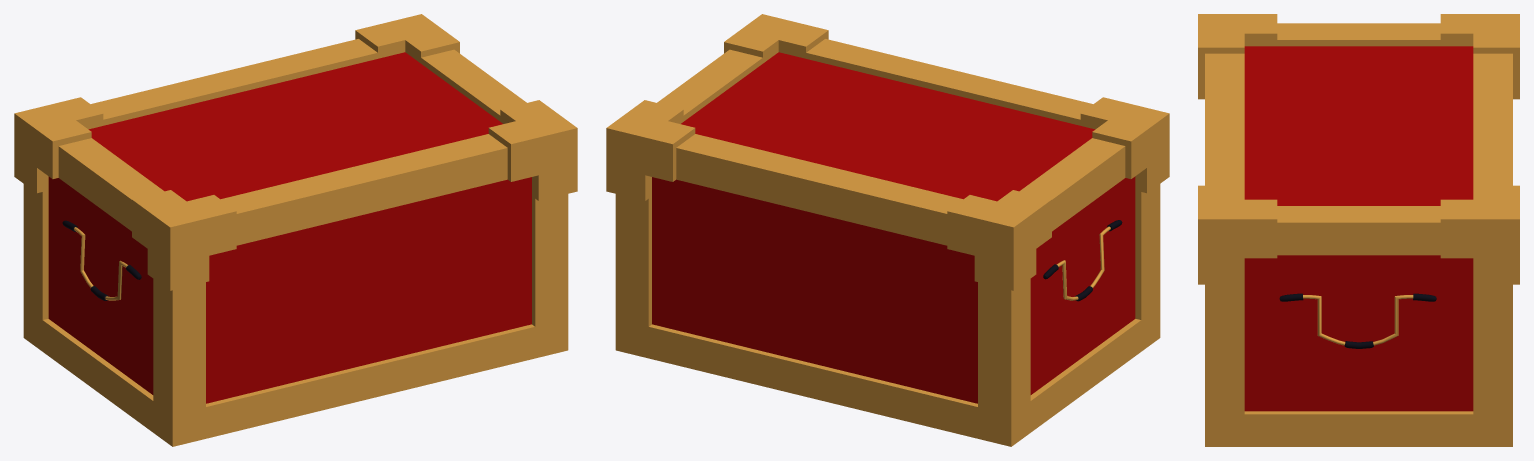
Rendered from F_Chest_01.fbx.
3 renders of one model, left to right at view 1: azimuth 30°, elevation 25°; view 2: azimuth 150°, elevation 25°; view 3: azimuth 270°, elevation 25°, orthographic. The views are drawn at different scales.
Visible parts, largest first — view 1: F_Chest_01; view 2: F_Chest_01; view 3: F_Chest_01.
Boxes of the visible parts, x1,y1,x2,y2 form: F_Chest_01: (14,14,577,446); F_Chest_01: (606,14,1169,446); F_Chest_01: (1198,14,1519,446).
Size of the model in its own units: 105 by 55 by 69.54.
